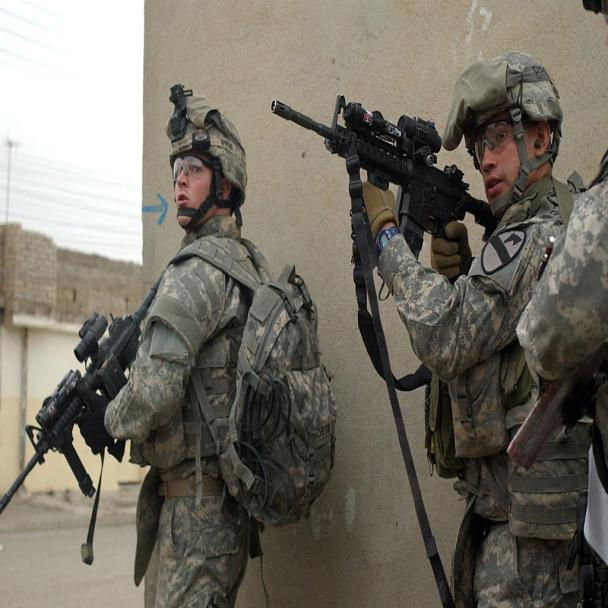Gun: (0, 276, 162, 546), (260, 82, 490, 270)
